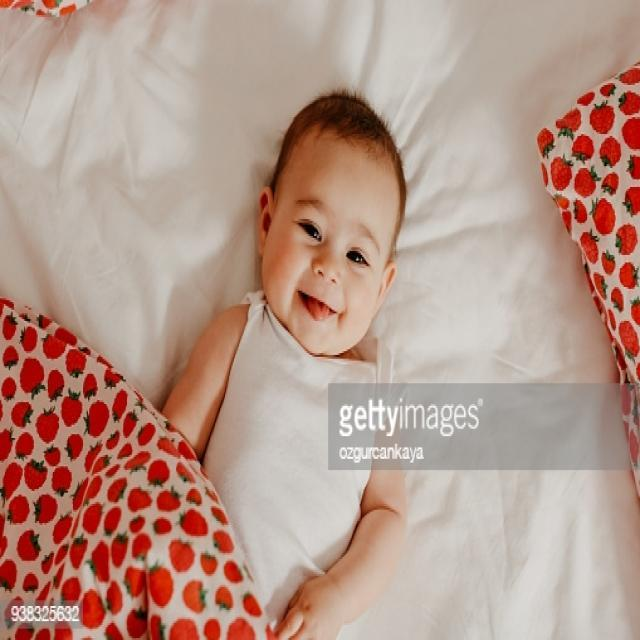non-dog: (155, 83, 413, 640)
